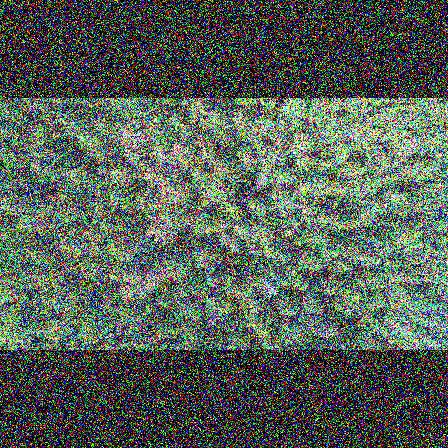Dead: (114, 122, 144, 153), (146, 221, 179, 248), (118, 276, 145, 306), (144, 258, 170, 288), (257, 277, 282, 301), (252, 172, 270, 192), (227, 241, 242, 257), (244, 244, 258, 258)
